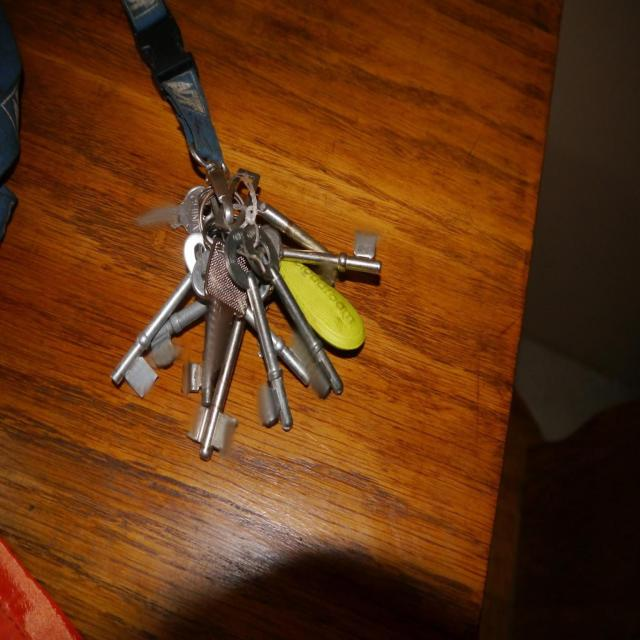Frontdoor keys: (116, 213, 391, 444)
